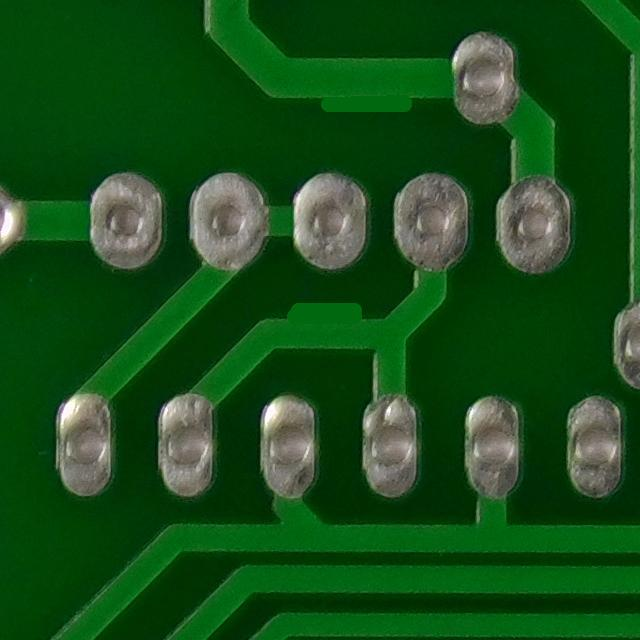spur: (261, 287, 379, 353)
